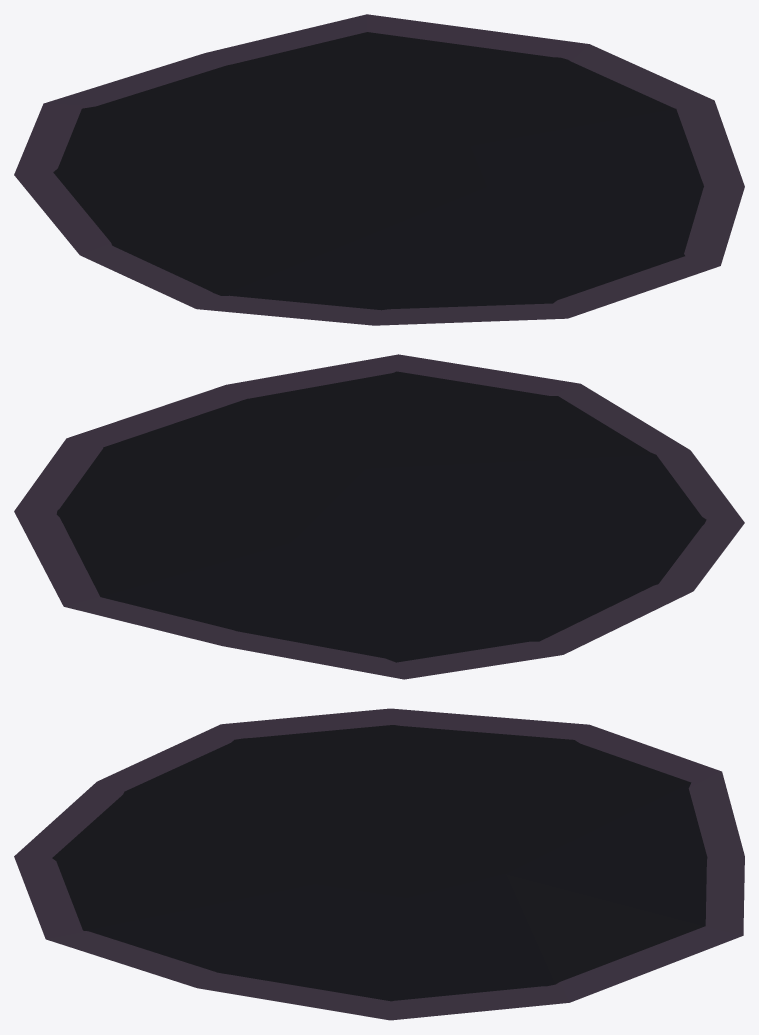
File: f_absence.glb
3 renders of one model, top to bottom at view 1: azimuth 30°, elevation 25°; view 2: azimuth 150°, elevation 25°; view 3: azimuth 270°, elevation 25°, orthographic.
Parts seen in each view (by area): view 1: block_lightless-void, block_void-rim; view 2: block_lightless-void, block_void-rim; view 3: block_lightless-void, block_void-rim.
Boxes of the visible parts, box(x1,y1,x2,y2) form: block_lightless-void: box(53, 32, 703, 310); block_void-rim: box(14, 14, 744, 325); block_lightless-void: box(56, 371, 706, 662); block_void-rim: box(14, 354, 744, 679); block_lightless-void: box(52, 725, 707, 1001); block_void-rim: box(14, 708, 744, 1020).
Bounding box in the file's own units: 0.8214 × 0.00783 × 0.8133.
1 material, 1 textured.
